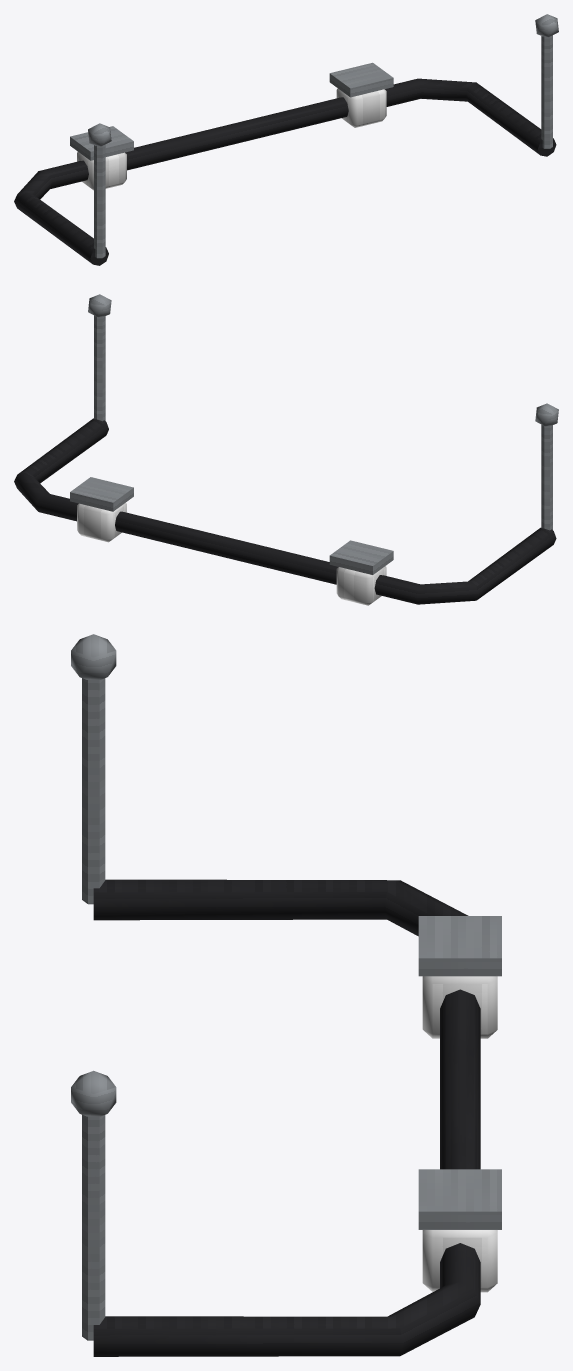
The model's file is barras_n1.glb.
The picture shows the model from 3 angles, top to bottom: view 1: azimuth 30°, elevation 25°; view 2: azimuth 150°, elevation 25°; view 3: azimuth 270°, elevation 25°; orthographic projection. The views are drawn at different scales.
Visible parts, largest first — view 1: barras_n1; view 2: barras_n1; view 3: barras_n1.
Part boxes in pixels (bbox=[...]): barras_n1: bbox=[14, 14, 558, 265]; barras_n1: bbox=[14, 294, 558, 605]; barras_n1: bbox=[71, 634, 501, 1356].
Bounding box in the file's own units: 0.6486 × 0.1985 × 0.2586.
2 materials, 2 textured.
